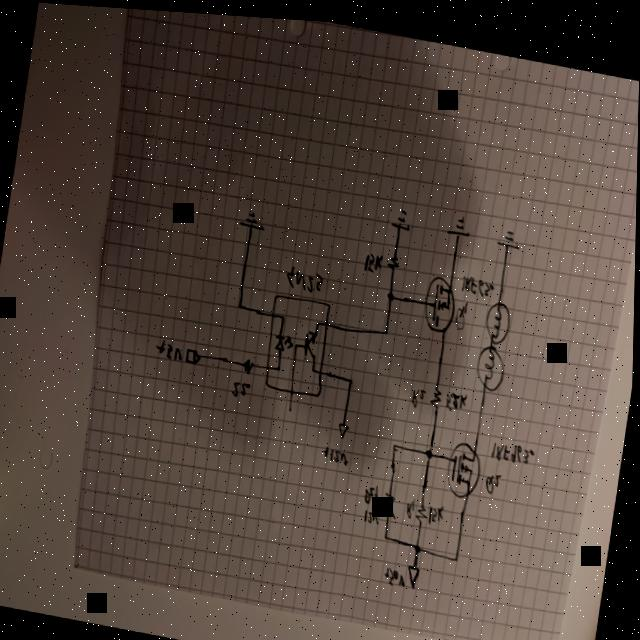diode: (380, 484, 399, 513)
ground: (237, 203, 267, 229), (445, 208, 471, 234), (496, 220, 522, 245), (389, 201, 412, 226)
junction: (424, 440, 434, 454), (386, 283, 395, 297), (414, 535, 422, 549), (382, 322, 389, 333), (236, 296, 243, 307), (454, 547, 460, 557), (392, 435, 398, 445), (384, 526, 390, 536), (348, 371, 354, 381)
resistor: (428, 378, 444, 406), (240, 352, 257, 373), (385, 247, 401, 266), (414, 497, 429, 517)
source: (405, 556, 422, 584), (185, 343, 202, 363), (336, 415, 350, 435)
terminal: (286, 399, 294, 413)
text: (490, 429, 536, 462), (283, 259, 324, 290), (460, 267, 494, 291), (154, 333, 185, 359), (444, 382, 468, 407), (322, 440, 350, 461), (383, 559, 408, 582), (362, 245, 384, 270), (363, 476, 381, 505), (483, 463, 503, 489), (454, 293, 469, 325), (428, 496, 446, 521), (410, 378, 428, 403), (231, 374, 251, 395), (363, 500, 381, 520), (405, 490, 418, 514)
transistor: (443, 431, 484, 495), (420, 266, 459, 329)
